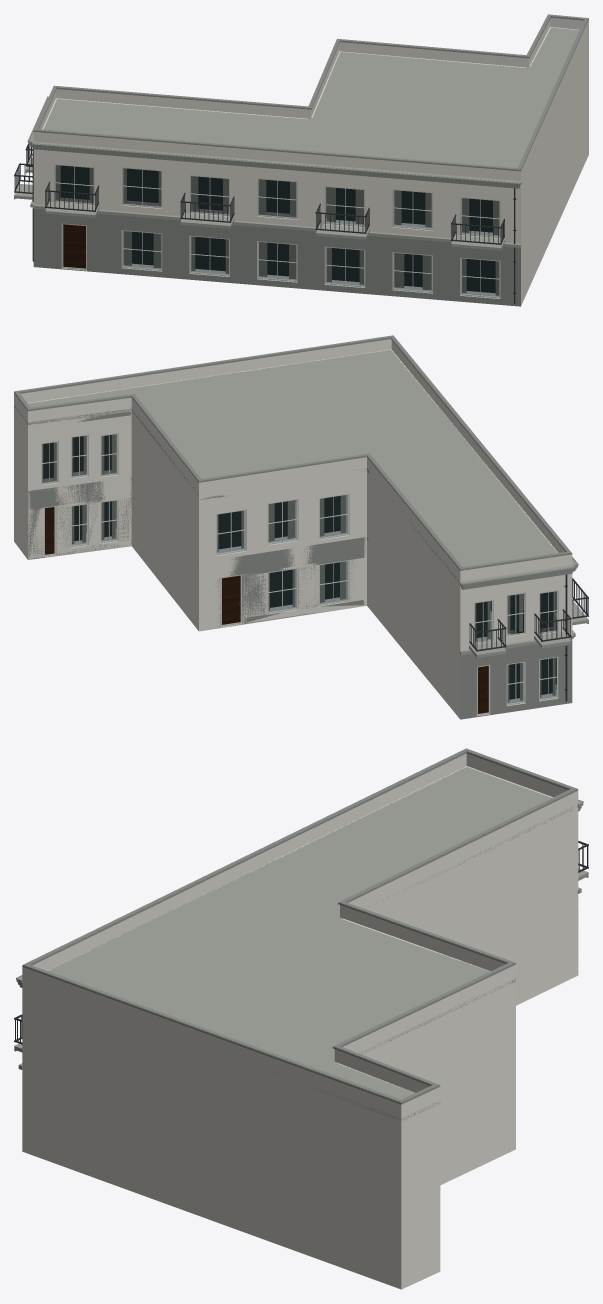
The model's file is building.glb.
The picture shows the model from 3 angles, top to bottom: view 1: azimuth 30°, elevation 25°; view 2: azimuth 150°, elevation 25°; view 3: azimuth 270°, elevation 25°; orthographic projection. The views are drawn at different scales.
Visible parts, largest first — view 1: roof/main:0/roof_slab#0001, roof/main:0/parapet#0001, main:0/edge1/z0/main:0/edge1/z0/wall_0_0/core0, main:0/edge0/z0/main:0/edge0/z0/wall_0_0/clip31, main:0/edge0/z0/main:0/edge0/z0/coating_0_0_0/clip13, roof/main:0/parapet_cap#0002, main:0/edge0/z0/main:0/edge0/z0/coating_0_0_0/clip2, roof/main:0/parapet_cap#0001, main:0/edge0/z0/floor_slab#0001, main:0/edge0/z0/opening_u4.14_v3.50/glazing#0001, main:0/edge0/z0/opening_u4.14_v0.30/glazing#0001, main:0/edge0/z0/opening_u20.06_v0.30/glazing#0001 (+53 smaller); view 2: roof/main:0/roof_slab#0001, main:0/edge5/z0/main:0/edge5/z0/wall_0_0/core0, main:0/edge6/z0/main:0/edge6/z0/wall_0_0/clip0, roof/main:0/parapet#0001, main:0/edge3/z0/main:0/edge3/z0/wall_0_0, main:0/edge4/z0/main:0/edge4/z0/wall_0_0/clip0, main:0/edge7/z0/main:0/edge7/z0/coating_0_0_0/core0, roof/main:0/parapet_cap#0002, main:0/edge7/z0/main:0/edge7/z0/wall_0_0/core0, main:0/edge5/z0/main:0/edge5/z0/coating_0_0_0/clip14, roof/main:0/parapet_cap#0001, main:0/edge2/z0/main:0/edge2/z0/wall_0_0 (+22 smaller); view 3: main:0/edge1/z0/main:0/edge1/z0/wall_0_0/core0, roof/main:0/roof_slab#0001, roof/main:0/parapet#0001, main:0/edge6/z0/main:0/edge6/z0/wall_0_0/clip0, main:0/edge4/z0/main:0/edge4/z0/wall_0_0/clip0, main:0/edge2/z0/main:0/edge2/z0/wall_0_0, roof/main:0/parapet_cap#0002, roof/main:0/parapet_cap#0001.
Boxes of the visible parts, <box> form: roof/main:0/roof_slab#0001: <box>43,27,579,167</box>; roof/main:0/parapet#0001: <box>33,17,588,180</box>; main:0/edge1/z0/main:0/edge1/z0/wall_0_0/core0: <box>521,30,588,305</box>; main:0/edge0/z0/main:0/edge0/z0/wall_0_0/clip31: <box>33,148,521,199</box>; main:0/edge0/z0/main:0/edge0/z0/coating_0_0_0/clip13: <box>33,208,520,260</box>; roof/main:0/parapet_cap#0002: <box>34,14,588,169</box>; main:0/edge0/z0/main:0/edge0/z0/coating_0_0_0/clip2: <box>87,265,520,305</box>; roof/main:0/parapet_cap#0001: <box>33,16,588,171</box>; main:0/edge0/z0/floor_slab#0001: <box>32,204,521,248</box>; main:0/edge0/z0/opening_u4.14_v3.50/glazing#0001: <box>123,168,161,206</box>; main:0/edge0/z0/opening_u4.14_v0.30/glazing#0001: <box>123,231,161,269</box>; main:0/edge0/z0/opening_u20.06_v0.30/glazing#0001: <box>461,258,499,296</box>; roof/main:0/roof_slab#0001: <box>14,349,557,581</box>; main:0/edge5/z0/main:0/edge5/z0/wall_0_0/core0: <box>199,468,366,631</box>; main:0/edge6/z0/main:0/edge6/z0/wall_0_0/clip0: <box>367,470,464,716</box>; roof/main:0/parapet#0001: <box>14,339,572,581</box>; main:0/edge3/z0/main:0/edge3/z0/wall_0_0: <box>28,408,131,559</box>; main:0/edge4/z0/main:0/edge4/z0/wall_0_0/clip0: <box>131,409,198,630</box>; main:0/edge7/z0/main:0/edge7/z0/coating_0_0_0/core0: <box>460,639,572,719</box>; roof/main:0/parapet_cap#0002: <box>14,335,571,569</box>; main:0/edge7/z0/main:0/edge7/z0/wall_0_0/core0: <box>460,573,572,716</box>; main:0/edge5/z0/main:0/edge5/z0/coating_0_0_0/clip14: <box>228,537,365,576</box>; roof/main:0/parapet_cap#0001: <box>14,338,572,570</box>; main:0/edge2/z0/main:0/edge2/z0/wall_0_0: <box>14,404,27,559</box>; main:0/edge1/z0/main:0/edge1/z0/wall_0_0/core0: <box>22,980,401,1289</box>; roof/main:0/roof_slab#0001: <box>47,766,573,1120</box>; roof/main:0/parapet#0001: <box>22,753,578,1117</box>; main:0/edge6/z0/main:0/edge6/z0/wall_0_0/clip0: <box>364,804,578,1005</box>; main:0/edge4/z0/main:0/edge4/z0/wall_0_0/clip0: <box>358,978,515,1185</box>; main:0/edge2/z0/main:0/edge2/z0/wall_0_0: <box>401,1100,440,1289</box>; roof/main:0/parapet_cap#0002: <box>23,748,577,1102</box>; roof/main:0/parapet_cap#0001: <box>22,751,578,1104</box>.
Size of the model in its own units: 28.89 by 6.97 by 19.44.
Materials: 9 (1 with a texture image).
